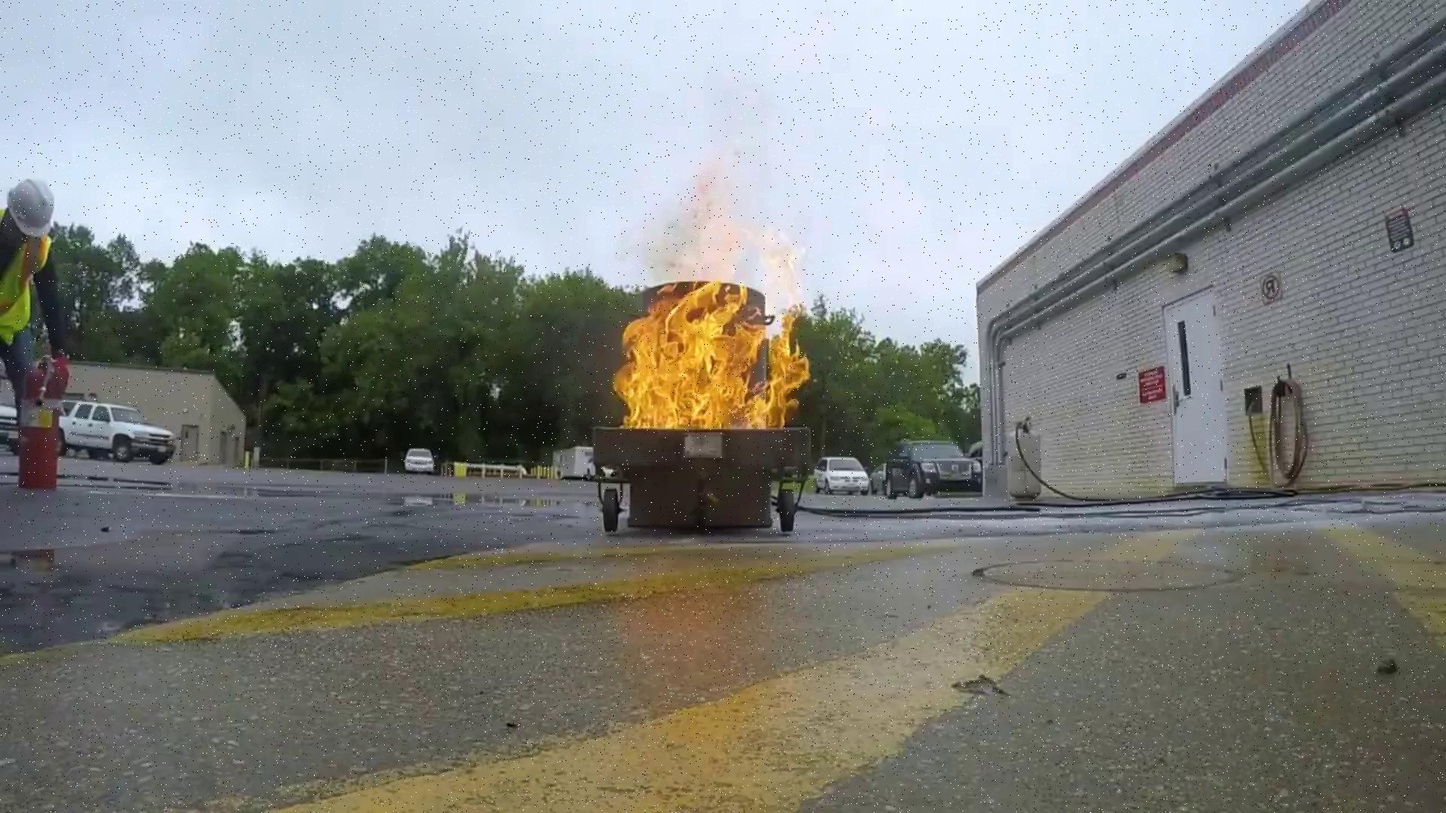Hard_hat: (3, 172, 61, 236)
Vest: (0, 235, 45, 343)
